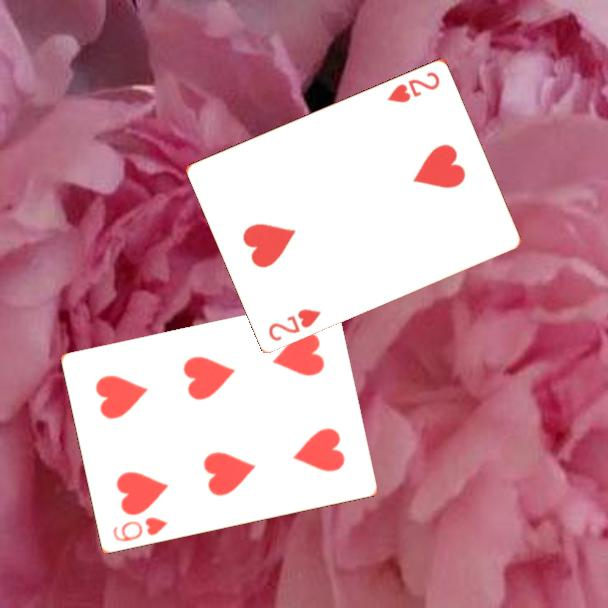h02: (265, 305, 324, 344), (384, 68, 443, 105)
h06: (109, 514, 170, 545)
